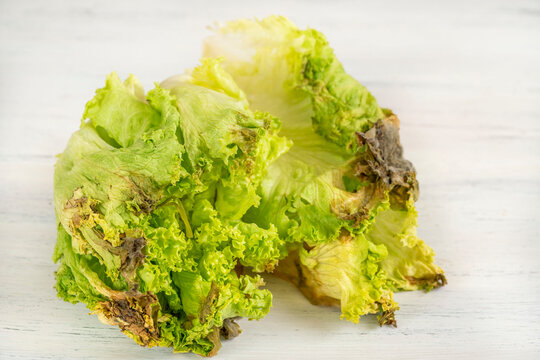lettuce rotten: (36, 8, 484, 356)
